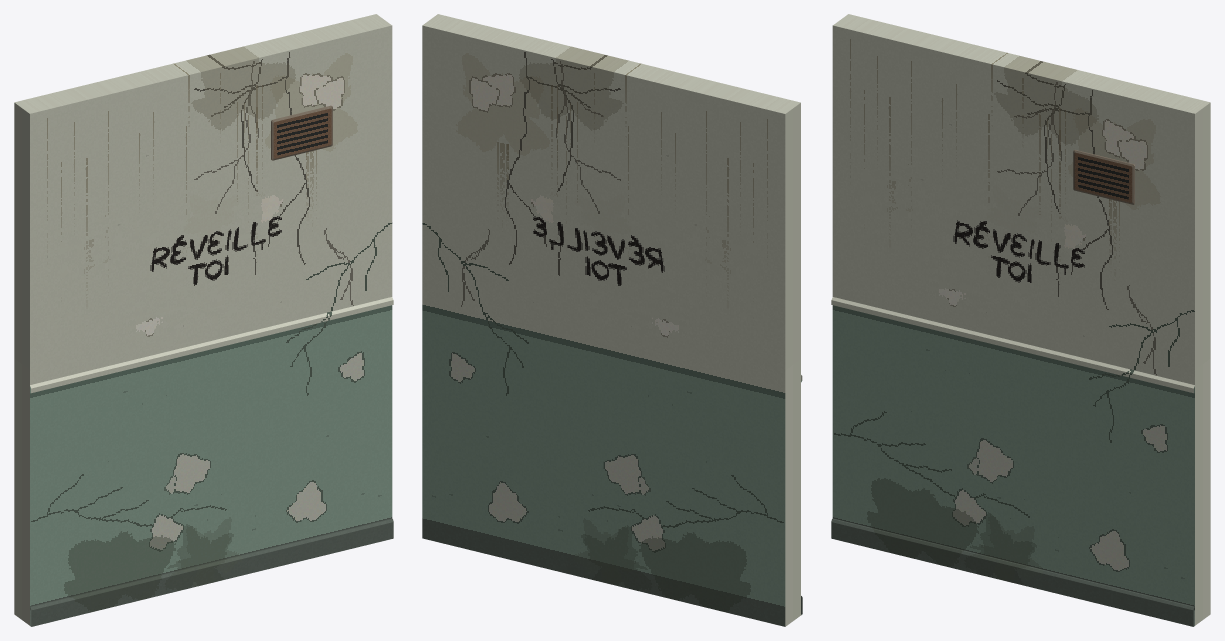
The model's file is wall_4_reveille_toi.glb.
3 renders of one model, left to right at view 1: azimuth 30°, elevation 25°; view 2: azimuth 150°, elevation 25°; view 3: azimuth 330°, elevation 25°, orthographic.
Visible parts, largest first — view 1: wall_body, vent_grille; view 2: wall_body; view 3: wall_body, vent_grille.
Boxes of the visible parts, left/top/right/bottom form: wall_body: left=14, top=14, right=393, bottom=626; vent_grille: left=271, top=105, right=332, bottom=160; wall_body: left=422, top=14, right=802, bottom=626; wall_body: left=831, top=14, right=1210, bottom=626; vent_grille: left=1073, top=150, right=1134, bottom=204.
Bounding box in the file's own units: 2 × 2.7 × 0.1656.
1 material, 1 textured.
